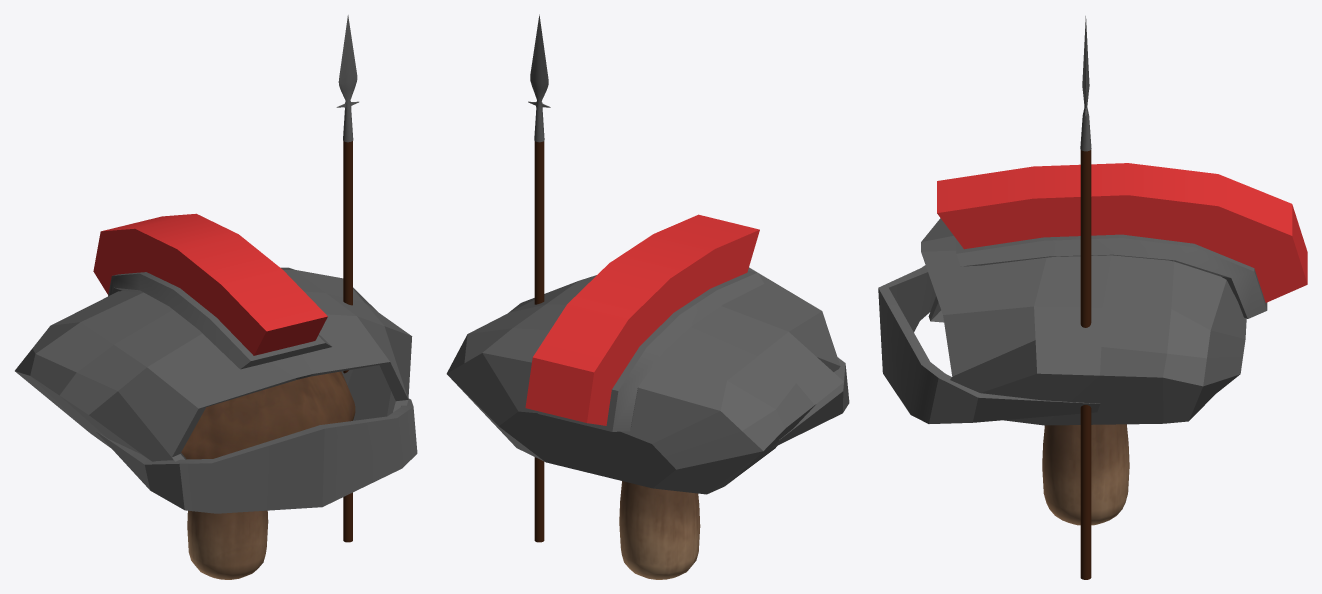
File: Schroom_Warrior_big_Helmet.fbx
3 renders of one model, left to right at view 1: azimuth 30°, elevation 25°; view 2: azimuth 150°, elevation 25°; view 3: azimuth 270°, elevation 25°, orthographic. The views are drawn at different scales.
Visible parts, largest first — view 1: Warrior; view 2: Warrior; view 3: Warrior.
Boxes of the visible parts, bbox=[...] form: Warrior: bbox=[15, 15, 417, 579]; Warrior: bbox=[446, 14, 849, 579]; Warrior: bbox=[878, 16, 1307, 579].
Bounding box in the file's own units: 297 × 465 × 319.
